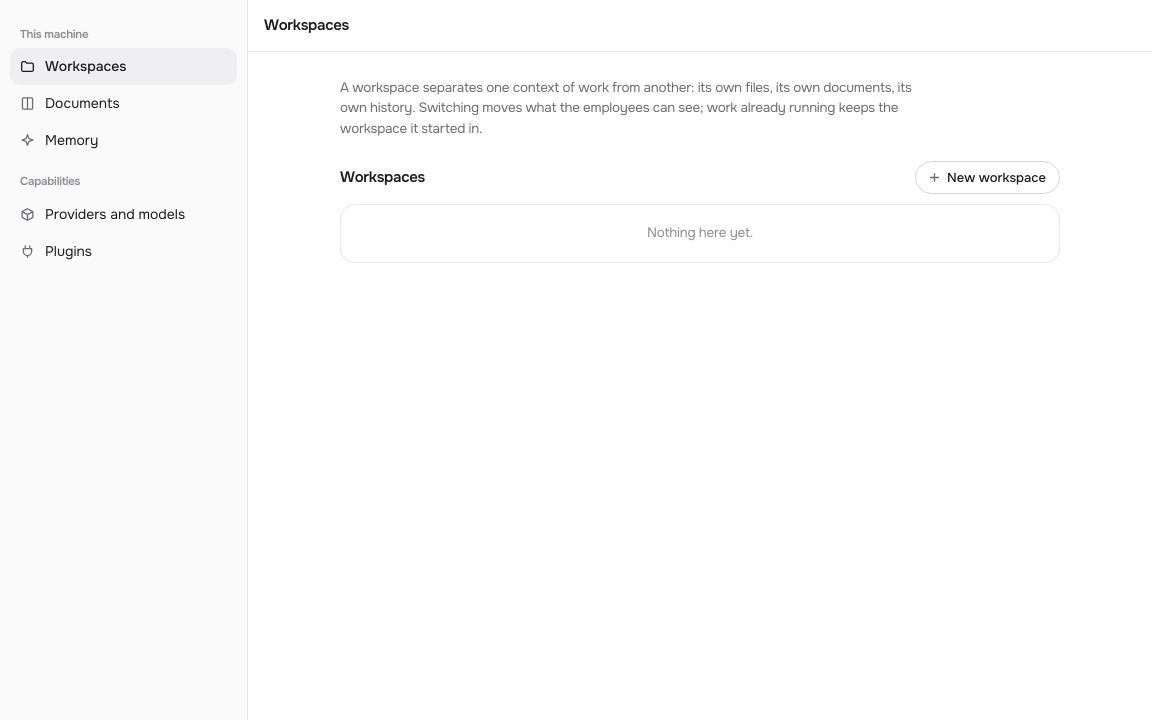
Test: Settings → Providers › says when nothing has been added, and what the machine is using instead
What coordinates should you click on to do the following:
click the button "Providers and models"
I would click on:
 (124, 214)
Its box is [10,196,237,232].
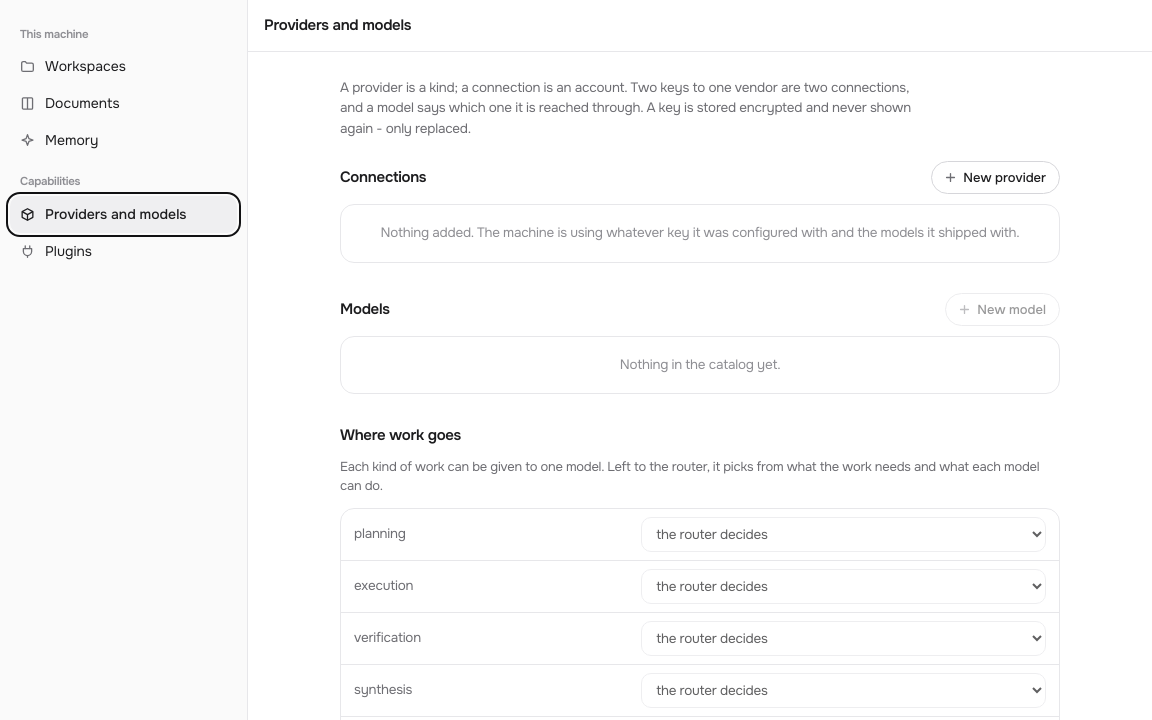
Result: the text "Nothing added" is shown at [380,224,1020,241]
